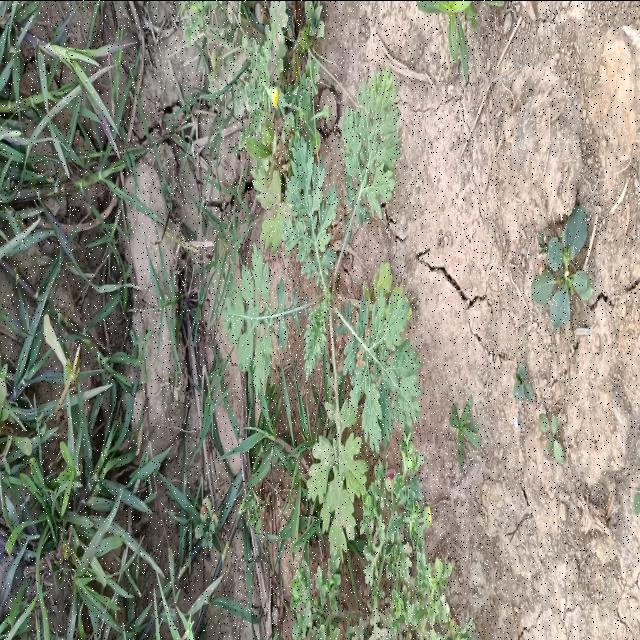plant: (223, 134, 422, 559), (341, 67, 401, 244)
